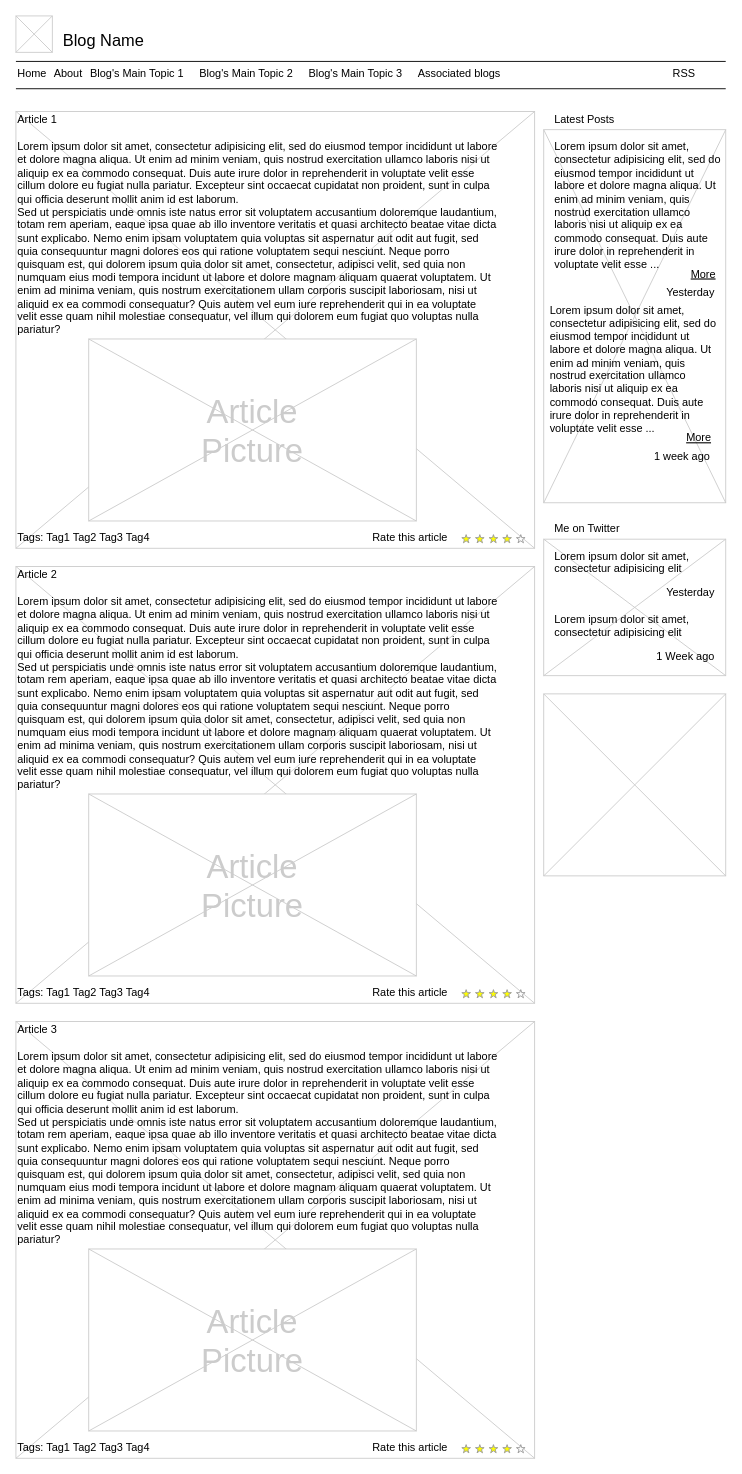
Image size: 742x1474. Some labels were removed from this diagram. Each missing label, with the centre of its shape:
"Blog Logo" belongs at point 33,33.
"Tag Cloud" belongs at point 634,784.
